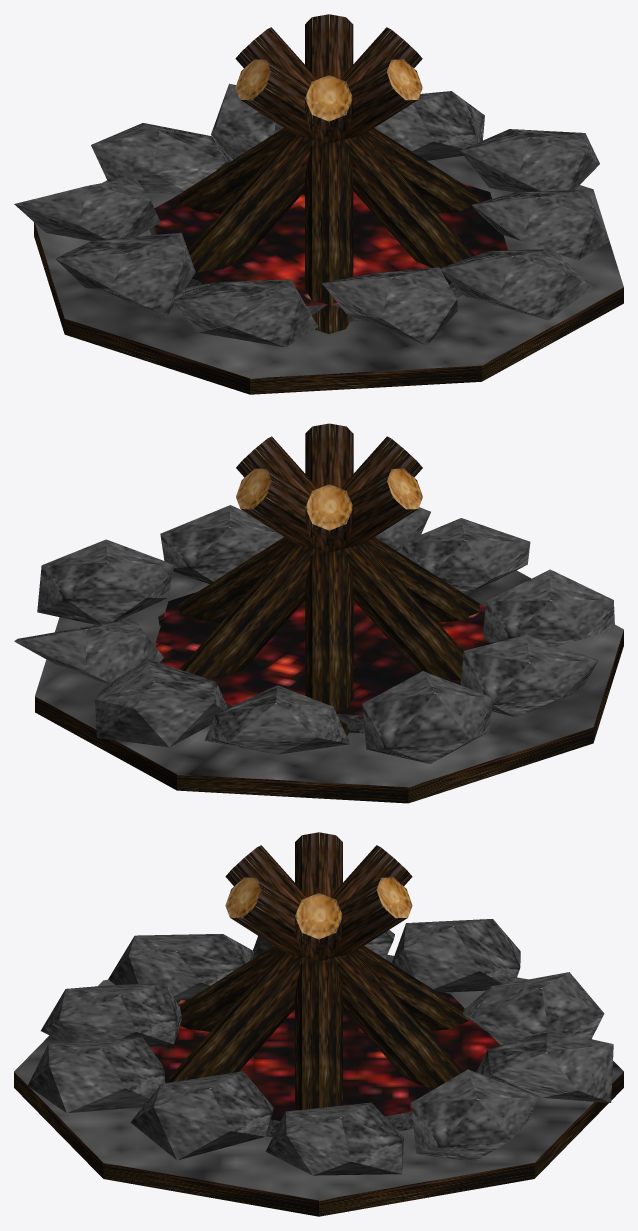
Rendered from Campfire.fbx.
The picture shows the model from 3 angles, top to bottom: view 1: azimuth 30°, elevation 25°; view 2: azimuth 150°, elevation 25°; view 3: azimuth 270°, elevation 25°; orthographic projection.
Parts seen in each view (by area): view 1: Cylinder.002; view 2: Cylinder.002; view 3: Cylinder.002.
Part boxes in pixels (<box>): Cylinder.002: <box>14,14,623,394</box>; Cylinder.002: <box>14,423,623,803</box>; Cylinder.002: <box>14,832,623,1216</box>.
Size of the model in its own units: 245 by 98.45 by 242.
